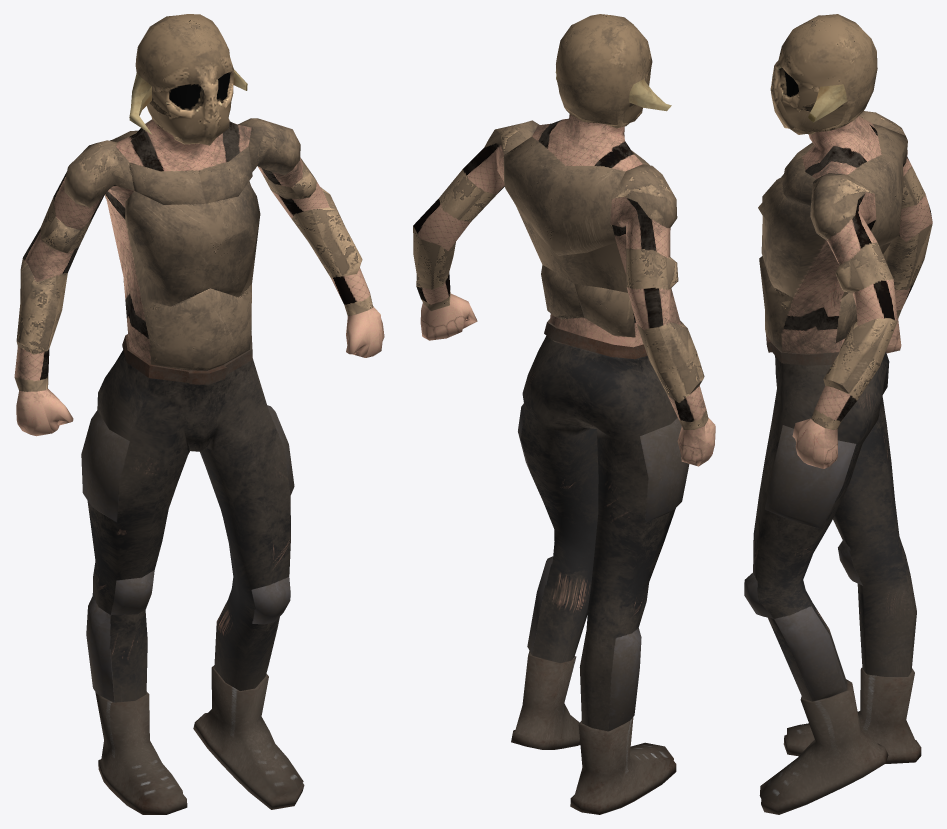
The model's file is Anim_ataque_f2_npc1.0010.obj.
3 views of the same model, side by side, from view 1: azimuth 30°, elevation 25°; view 2: azimuth 150°, elevation 25°; view 3: azimuth 270°, elevation 25° (orthographic). The views are drawn at different scales.
Parts seen in each view (by area): view 1: NPC2; view 2: NPC2; view 3: NPC2.
Part boxes in pixels (x1=…): NPC2: x1=14, y1=14, x2=384, y2=814; NPC2: x1=413, y1=14, x2=715, y2=814; NPC2: x1=744, y1=14, x2=932, y2=814.
Size of the model in its own units: 4.32 by 9.72 by 2.2.
